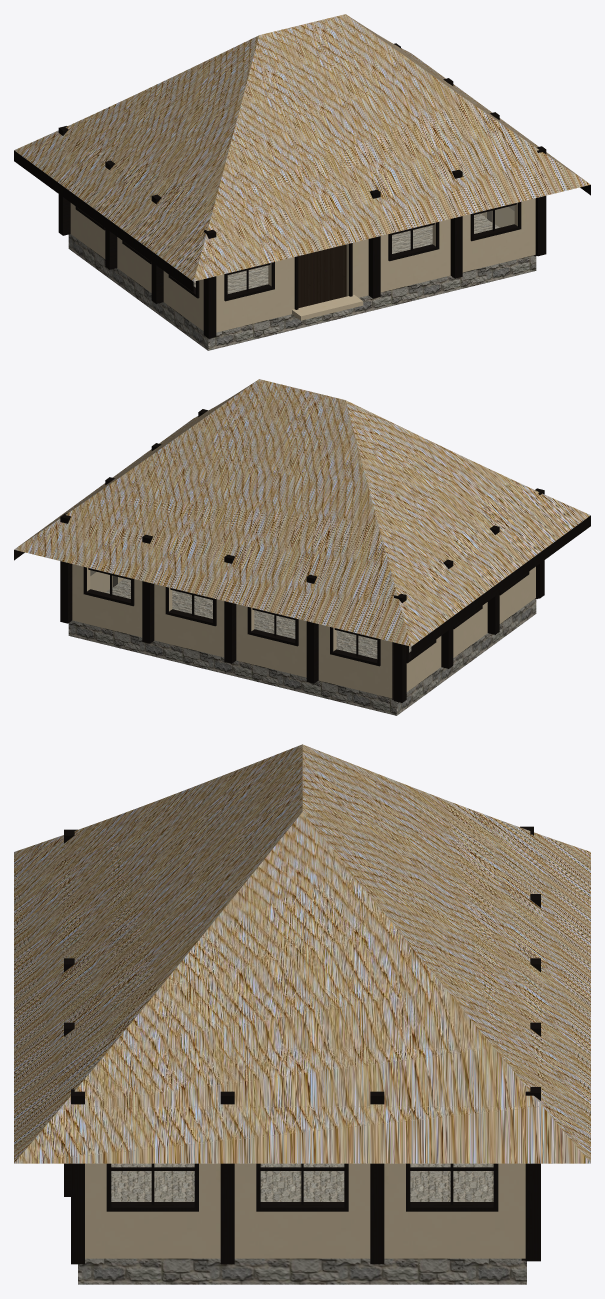
Rendered from jp_minka_01.glb.
3 renders of one model, top to bottom at view 1: azimuth 30°, elevation 25°; view 2: azimuth 150°, elevation 25°; view 3: azimuth 270°, elevation 25°, orthographic. The views are drawn at different scales.
Parts seen in each view (by area): view 1: jp_minka_01; view 2: jp_minka_01; view 3: jp_minka_01.
Boxes of the visible parts, <box> form: jp_minka_01: <box>14,14,590,350</box>; jp_minka_01: <box>14,379,590,715</box>; jp_minka_01: <box>14,744,590,1284</box>.
Size of the model in its own units: 11.5 by 6.5 by 9.
Materials: 6 (5 with a texture image).
